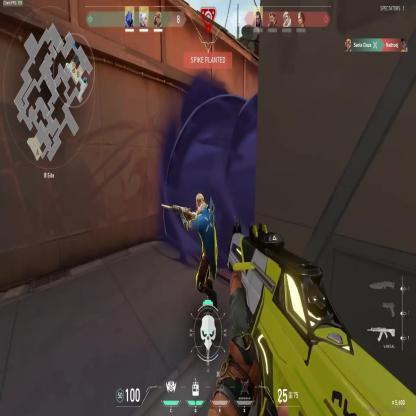enemy: (179, 190, 219, 316)
enemy_head: (196, 192, 204, 214)
